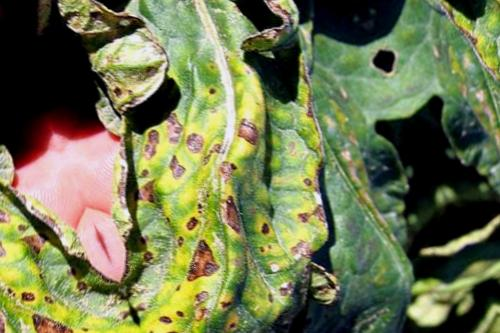Tomato Septoria leaf spot: (1, 0, 455, 333)
